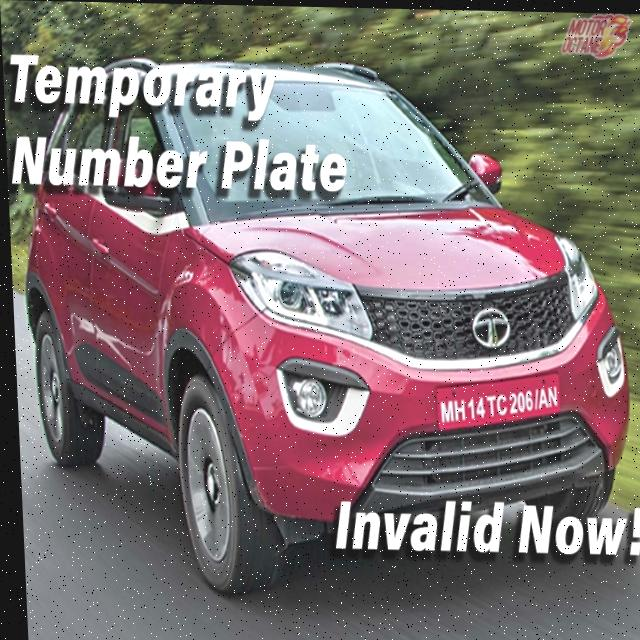plate: (428, 364, 559, 435)
